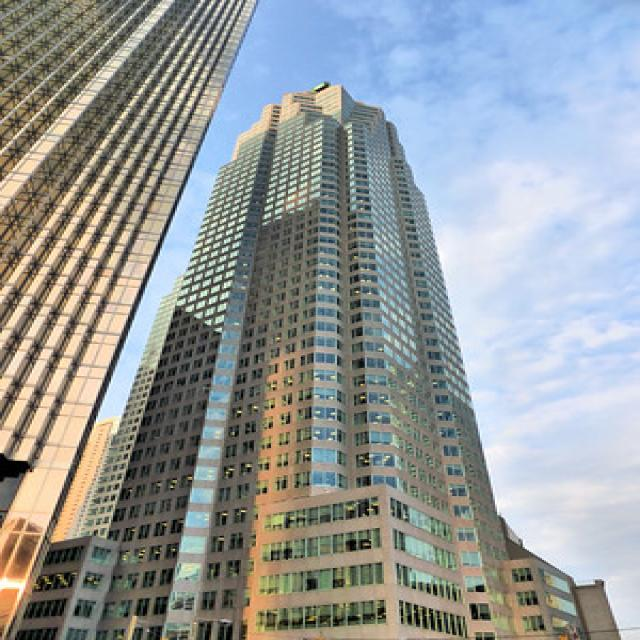Normal_building: (93, 75, 583, 635)
